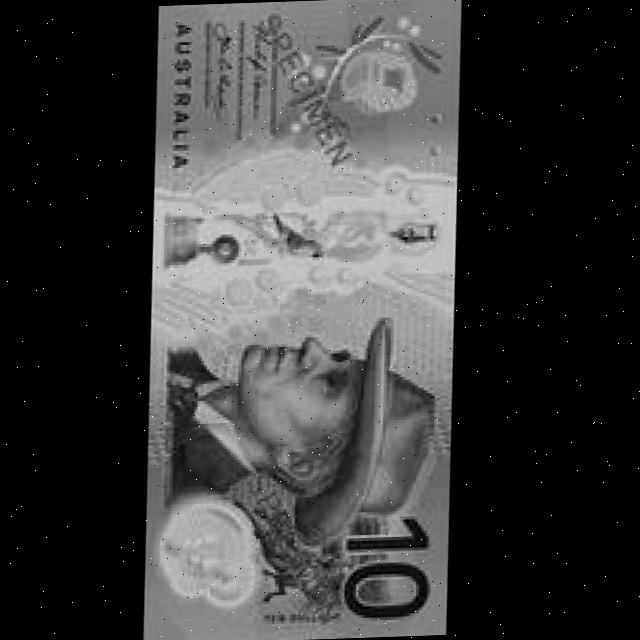banknote: (124, 0, 488, 640)
